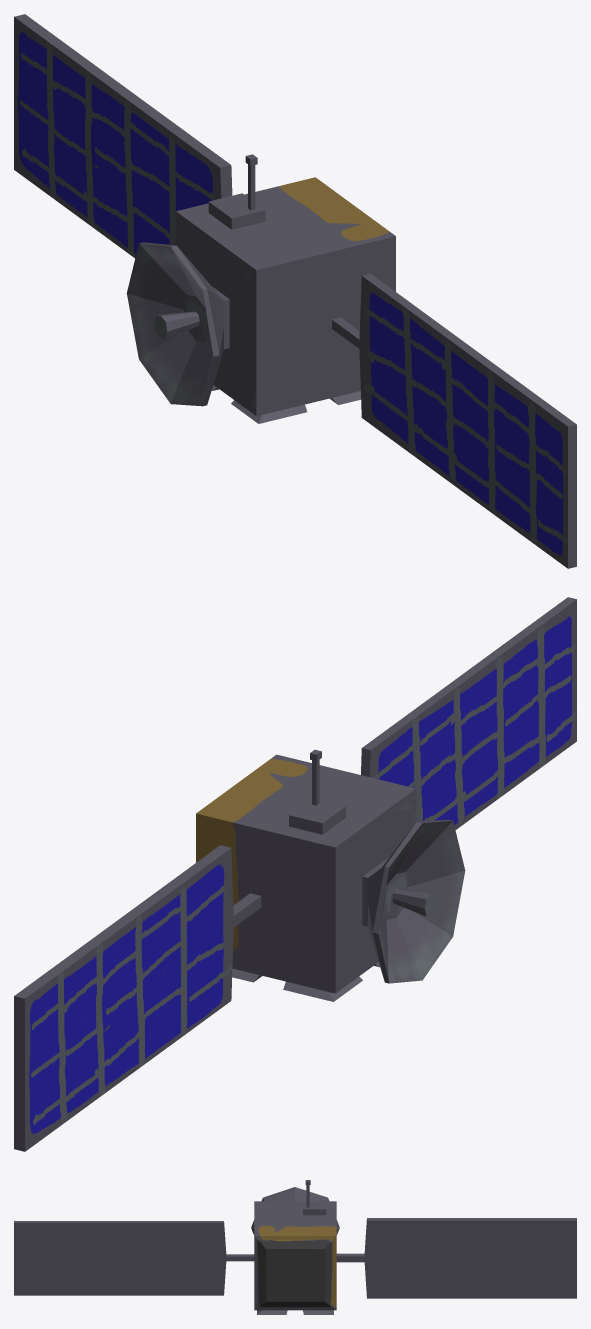
The model's file is satelite.fbx.
3 views of the same model, one above another, from view 1: azimuth 30°, elevation 25°; view 2: azimuth 150°, elevation 25°; view 3: azimuth 270°, elevation 25° (orthographic). The views are drawn at different scales.
Parts seen in each view (by area): view 1: satelite1; view 2: satelite1; view 3: satelite1.
Boxes of the visible parts, <box> form: satelite1: <box>14,14,576,568</box>; satelite1: <box>14,597,576,1151</box>; satelite1: <box>14,1180,576,1314</box>.
Size of the model in its own units: 293 by 302 by 1372.
Materials: 1 (1 with a texture image).
